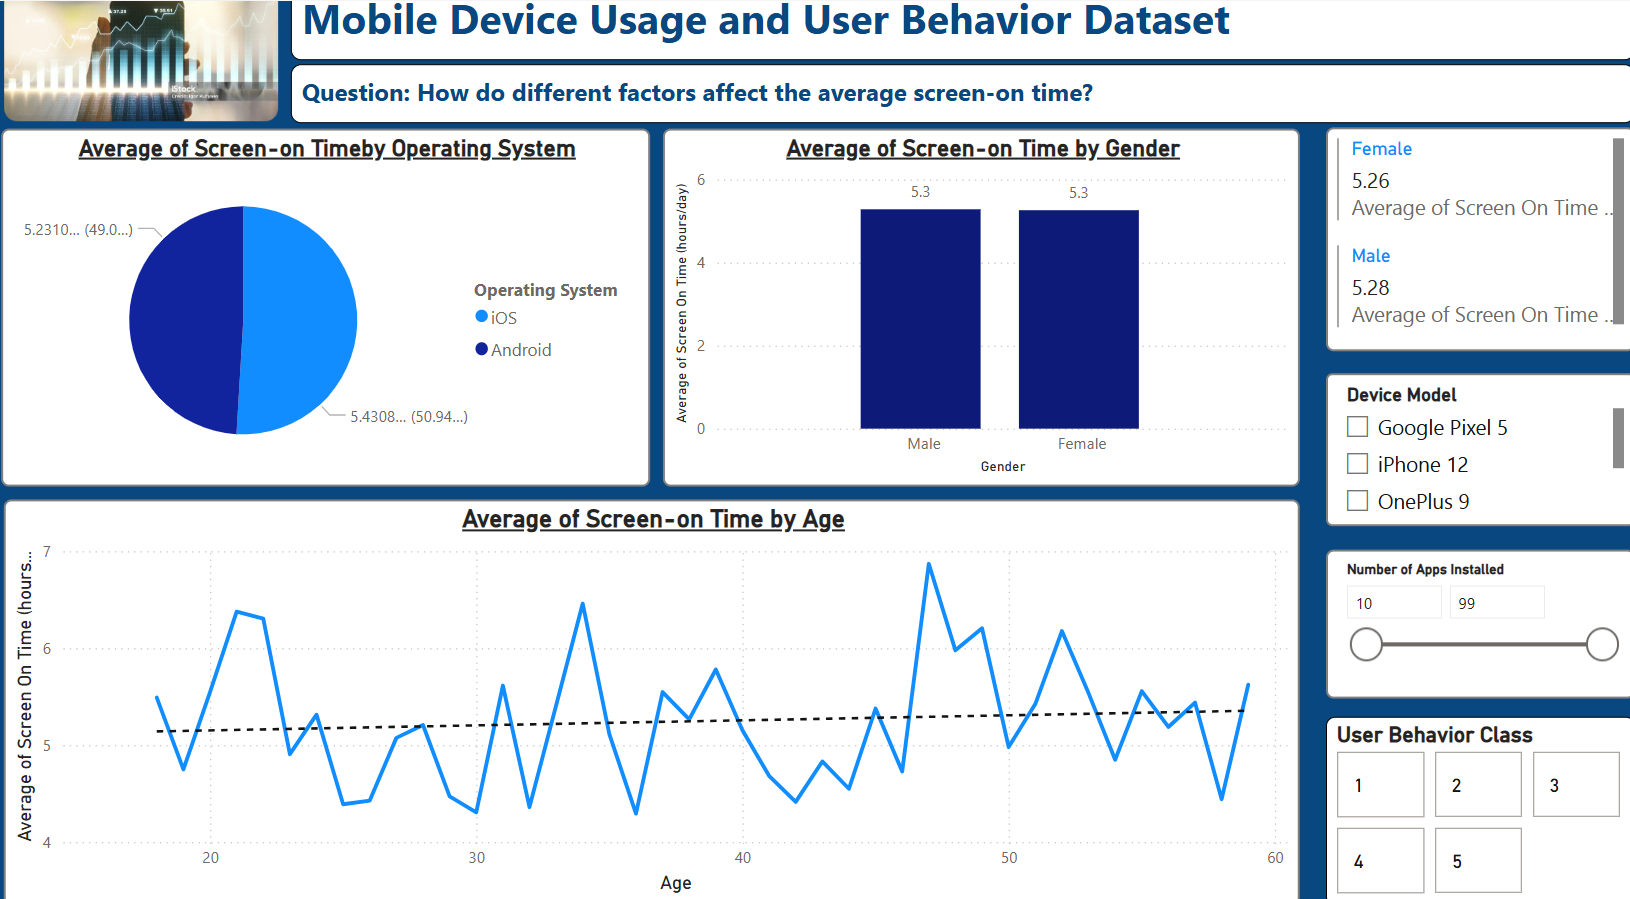

This screenshot's page, from the dashboard's own definition file:
{"tool":"powerbi","page":{"name":"Page 1","canvas":[1280,720],"ordinal":0},"visuals":[{"type":"pieChart","title":"Average of Screen-on Timeby Operating System","fields":{"Category":["User Behaviour.Operating System"],"Y":["Avg(User Behaviour.Screen On Time (hours/day))"]},"box":[11.2,116.2,503.7,277.5],"z":0},{"type":"lineChart","title":"Average of Screen-on Time by Age","fields":{"Category":["User Behaviour.Age"],"Y":["Avg(User Behaviour.Screen On Time (hours/day))"]},"box":[12.5,403.8,1007.5,315],"z":1000},{"type":"columnChart","title":"Average of Screen-on Time by Gender","fields":{"Category":["User Behaviour.Gender"],"Y":["Avg(User Behaviour.Screen On Time (hours/day))"]},"box":[525,116.2,495,277.5],"z":2000},{"type":"slicer","fields":{"Values":["User Behaviour.Device Model"]},"box":[1040,306.2,240,118.7],"z":3000},{"type":"slicer","fields":{"Values":["User Behaviour.Number of Apps Installed"]},"box":[1040,442.5,240,116.2],"z":4000},{"type":"multiRowCard","fields":{"Values":["User Behaviour.Gender","Avg(User Behaviour.Screen On Time (hours/day))"]},"box":[1040,115,240,173.8],"z":5000},{"type":"textbox","box":[236.2,0,1043.8,62.5],"z":6000},{"type":"image","box":[3.8,0,232.5,115],"z":7000},{"type":"advancedSlicerVisual","fields":{"Values":["User Behaviour.User Behavior Class"]},"box":[1040,572.5,240,147.5],"z":8000},{"type":"textbox","box":[236.2,66.2,1043.7,46.2],"z":9000}]}

Visuals, with their boxes in screenshot pixels (x1, y1, x2, y2), scaled from the page's 1280x720 canvas onto the 1630x899 screenshot:
"Average of Screen-on Timeby Operating System" pieChart: {"x1": 14, "y1": 145, "x2": 656, "y2": 492}
"Average of Screen-on Time by Age" lineChart: {"x1": 16, "y1": 504, "x2": 1299, "y2": 898}
"Average of Screen-on Time by Gender" columnChart: {"x1": 669, "y1": 145, "x2": 1299, "y2": 492}
slicer - User Behaviour.Device Model: {"x1": 1324, "y1": 382, "x2": 1629, "y2": 531}
slicer - User Behaviour.Number of Apps Installed: {"x1": 1324, "y1": 553, "x2": 1629, "y2": 698}
multiRowCard - User Behaviour.Gender x Avg(User Behaviour.Screen On Time (hours/day)): {"x1": 1324, "y1": 144, "x2": 1629, "y2": 361}
textbox: {"x1": 301, "y1": 0, "x2": 1629, "y2": 78}
image: {"x1": 5, "y1": 0, "x2": 301, "y2": 144}
advancedSlicerVisual - User Behaviour.User Behavior Class: {"x1": 1324, "y1": 715, "x2": 1629, "y2": 898}
textbox: {"x1": 301, "y1": 83, "x2": 1629, "y2": 140}
